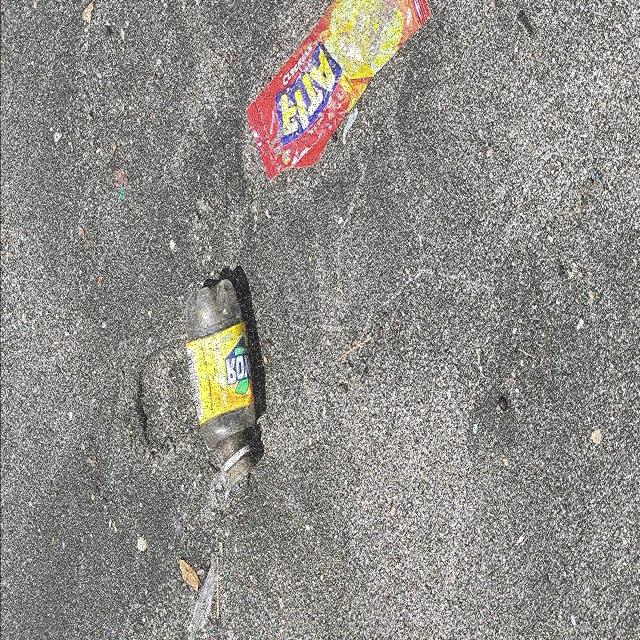plastic_waste: (247, 1, 434, 185), (186, 279, 257, 487)
